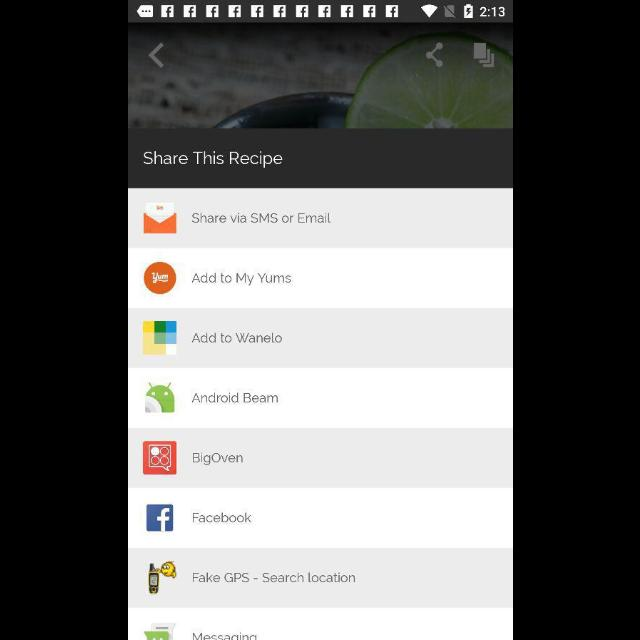icon: (146, 504, 172, 532), (472, 44, 493, 68), (425, 42, 443, 68), (148, 43, 164, 69)
image: (142, 441, 176, 475), (142, 321, 176, 355), (142, 262, 176, 294), (142, 202, 176, 234), (144, 382, 174, 414), (148, 561, 176, 595), (142, 622, 176, 640)
panel: (128, 130, 512, 640)
text: (142, 151, 282, 169), (191, 572, 355, 584), (192, 212, 331, 224), (192, 272, 290, 286), (191, 332, 283, 344), (192, 392, 278, 404), (192, 452, 244, 466), (192, 512, 252, 524), (192, 632, 256, 640)
uppertaskbar: (128, 1, 512, 23)
